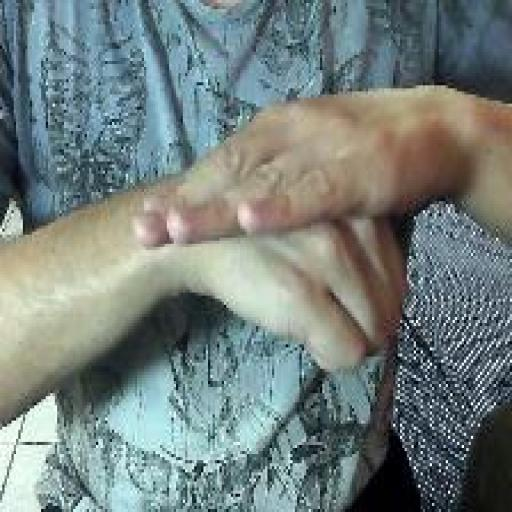Inu -dog-: (130, 88, 412, 378)
